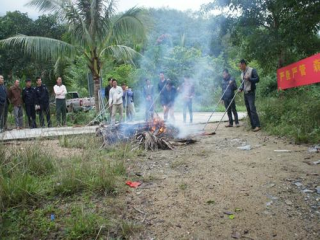fire: (150, 117, 172, 136)
smoke: (171, 43, 220, 144), (116, 105, 149, 133)
